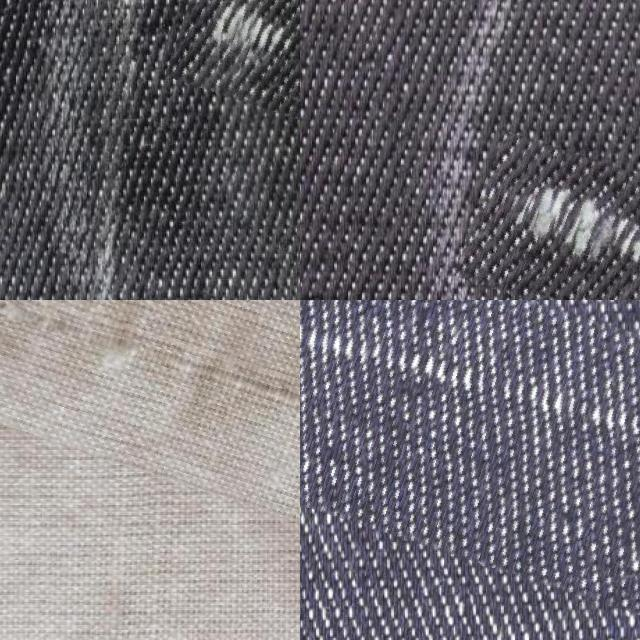stains: (300, 300, 640, 602), (0, 300, 300, 542), (463, 149, 640, 300), (179, 0, 300, 133)
